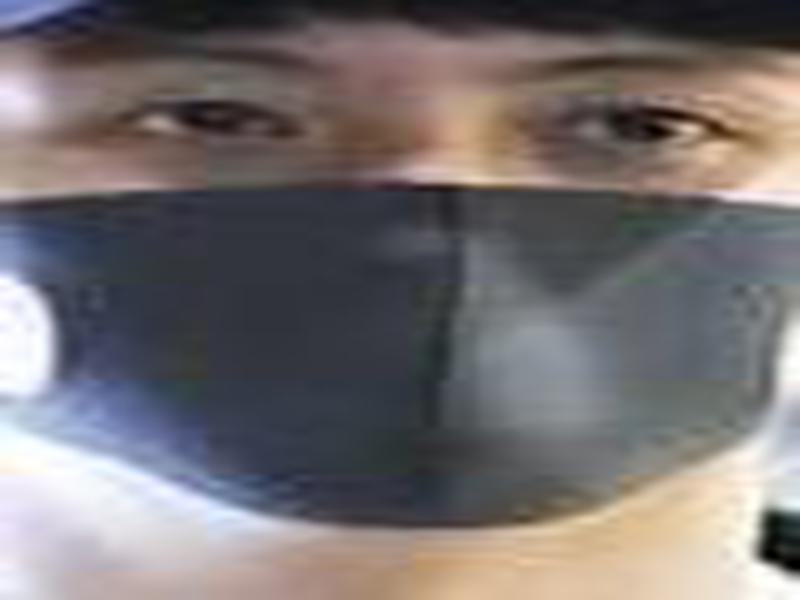with_mask: (1, 1, 798, 526)
